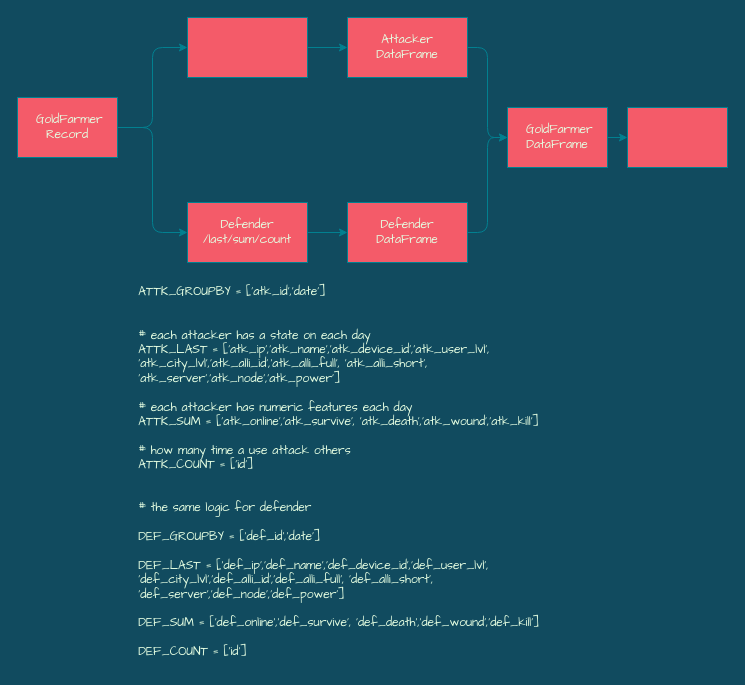
Some shapes in this 745 by 685 pixel diagram are drawn without their labels. Here are the shapes that lost their labels. From the top down, the centre of each, then its label:
At pixel 247 47: "Attacker /last/sum/count".
At pixel 677 137: "Impute Null".
